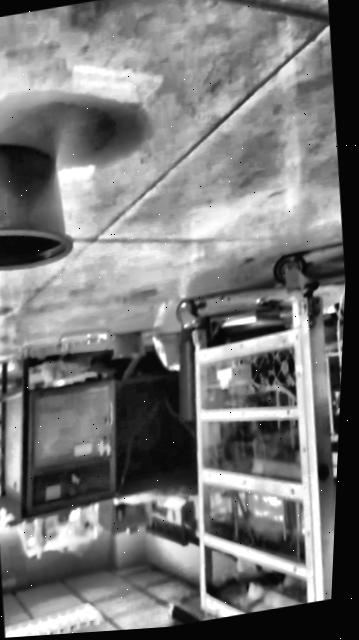pot: (0, 131, 78, 275)
